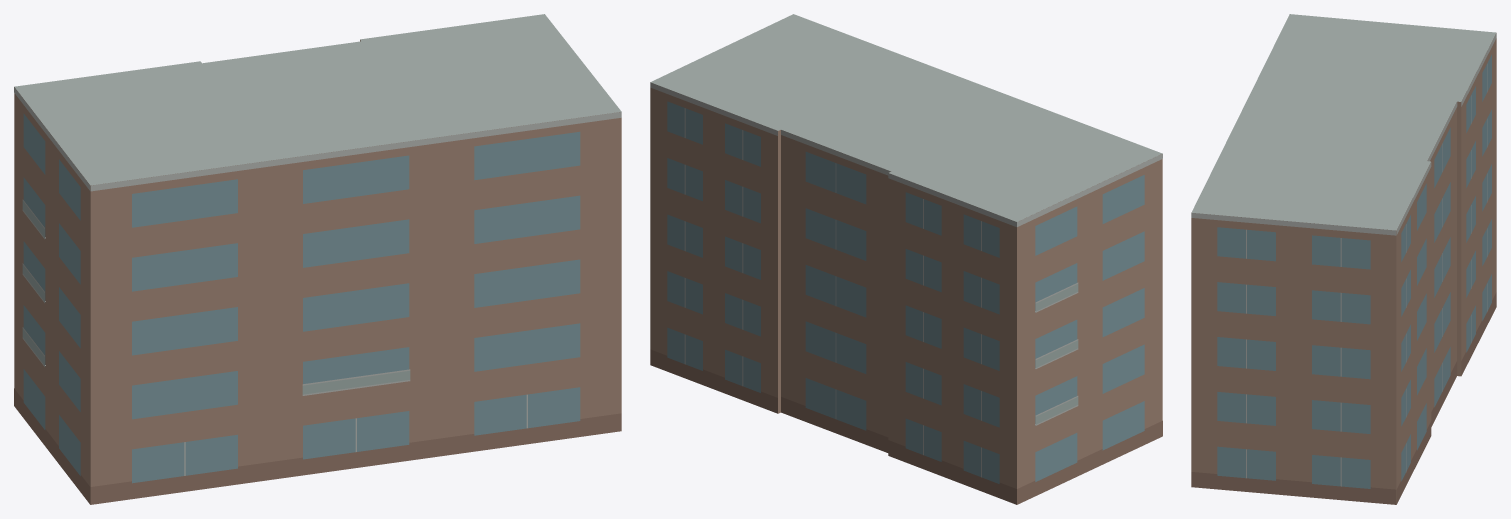
Rendered from survey-upis-32663975.glb.
3 views of the same model, side by side, from view 1: azimuth 30°, elevation 25°; view 2: azimuth 150°, elevation 25°; view 3: azimuth 270°, elevation 25° (orthographic). The views are drawn at different scales.
Parts seen in each view (by area): view 1: survey-upis-32663975.tmp; view 2: survey-upis-32663975.tmp; view 3: survey-upis-32663975.tmp.
Part boxes in pixels (x1,y1,x2,y2): survey-upis-32663975.tmp: (14,14,621,504); survey-upis-32663975.tmp: (650,14,1162,504); survey-upis-32663975.tmp: (1191,14,1496,504).
Size of the model in its own units: 22.18 by 13.1 by 13.22.
